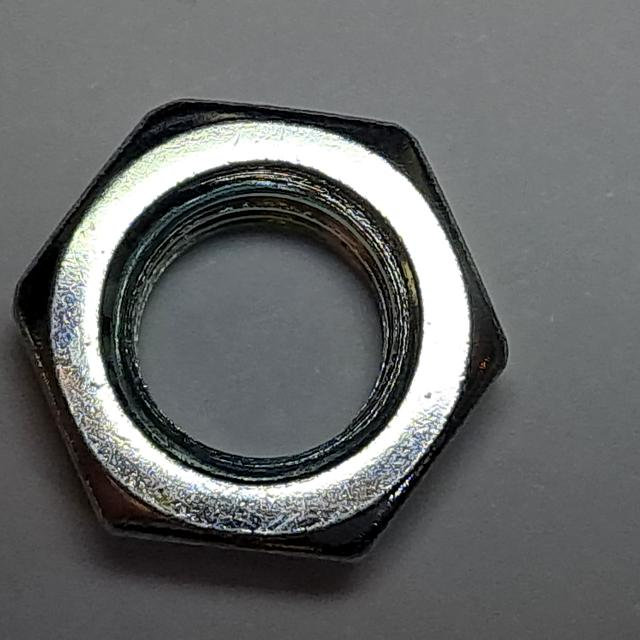Excellent: (1, 87, 528, 573)
